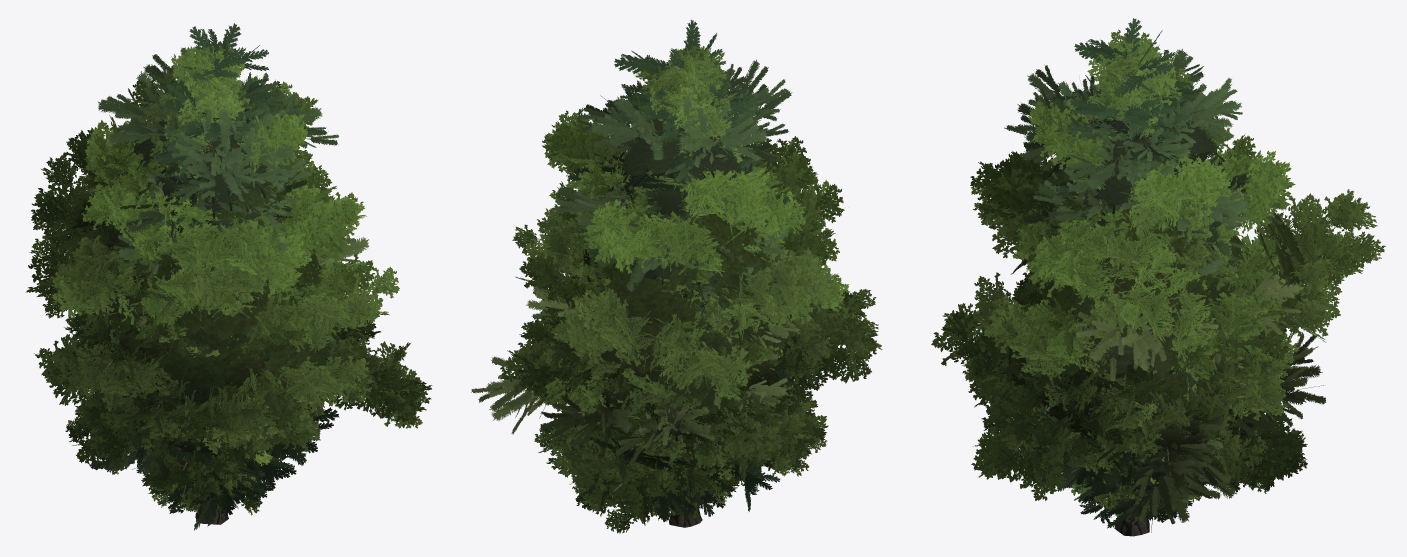
File: trees.glb
3 renders of one model, left to right at view 1: azimuth 30°, elevation 25°; view 2: azimuth 150°, elevation 25°; view 3: azimuth 270°, elevation 25°, orthographic. The views are drawn at different scales.
Visible parts, largest first — view 1: x_tree_oak_2_near, x_tree_oak_2_mid, x_tree_beech_2_near, x_tree_oak_0_near, x_tree_beech_0_near, x_tree_pine_2_near, x_tree_oak_0_mid, x_tree_spruce_2_near, x_tree_pine_2_mid, x_tree_beech_0_mid, x_tree_poplar_2_near, x_tree_oak_1_near (+12 smaller); view 2: x_tree_oak_2_mid, x_tree_oak_2_near, x_tree_beech_2_near, x_tree_oak_0_near, x_tree_oak_0_mid, x_tree_pine_2_near, x_tree_beech_0_near, x_tree_beech_2_mid, x_tree_pine_2_mid, x_tree_oak_1_near, x_tree_poplar_2_near, x_tree_aleppo_pine_2_near (+13 smaller); view 3: x_tree_oak_2_near, x_tree_oak_2_mid, x_tree_beech_2_near, x_tree_oak_0_near, x_tree_beech_0_near, x_tree_aleppo_pine_2_near, x_tree_oak_0_mid, x_tree_pine_2_near, x_tree_beech_0_mid, x_tree_pine_2_mid, x_tree_beech_2_mid, x_tree_aleppo_pine_2_mid (+10 smaller).
Part boxes in pixels (left/top/right/bottom): x_tree_oak_2_near: left=31, top=133, right=432, bottom=524; x_tree_oak_2_mid: left=32, top=130, right=423, bottom=524; x_tree_beech_2_near: left=82, top=78, right=337, bottom=437; x_tree_oak_0_near: left=41, top=187, right=399, bottom=465; x_tree_beech_0_near: left=81, top=115, right=374, bottom=445; x_tree_pine_2_near: left=106, top=47, right=338, bottom=247; x_tree_oak_0_mid: left=25, top=231, right=389, bottom=467; x_tree_spruce_2_near: left=89, top=29, right=333, bottom=509; x_tree_pine_2_mid: left=98, top=50, right=328, bottom=237; x_tree_beech_0_mid: left=87, top=121, right=365, bottom=405; x_tree_poplar_2_near: left=127, top=43, right=246, bottom=357; x_tree_oak_1_near: left=65, top=387, right=322, bottom=489; x_tree_oak_2_mid: left=518, top=166, right=882, bottom=527; x_tree_oak_2_near: left=519, top=146, right=878, bottom=527; x_tree_beech_2_near: left=515, top=62, right=844, bottom=371; x_tree_oak_0_near: left=512, top=204, right=847, bottom=533; x_tree_oak_0_mid: left=500, top=222, right=849, bottom=525; x_tree_pine_2_near: left=574, top=64, right=802, bottom=290; x_tree_beech_0_near: left=538, top=159, right=807, bottom=409; x_tree_beech_2_mid: left=530, top=66, right=820, bottom=356; x_tree_pine_2_mid: left=566, top=59, right=789, bottom=297; x_tree_oak_1_near: left=534, top=342, right=827, bottom=476; x_tree_poplar_2_near: left=635, top=43, right=752, bottom=295; x_tree_aleppo_pine_2_near: left=471, top=234, right=798, bottom=446; x_tree_oak_2_near: left=942, top=185, right=1385, bottom=536; x_tree_oak_2_mid: left=972, top=195, right=1377, bottom=534; x_tree_beech_2_near: left=970, top=100, right=1271, bottom=396; x_tree_oak_0_near: left=941, top=233, right=1307, bottom=493; x_tree_beech_0_near: left=989, top=150, right=1291, bottom=439; x_tree_aleppo_pine_2_near: left=988, top=272, right=1326, bottom=522; x_tree_oak_0_mid: left=931, top=231, right=1298, bottom=485; x_tree_pine_2_near: left=1004, top=49, right=1255, bottom=248; x_tree_beech_0_mid: left=998, top=161, right=1295, bottom=393; x_tree_pine_2_mid: left=1014, top=48, right=1248, bottom=299; x_tree_beech_2_mid: left=982, top=95, right=1285, bottom=357; x_tree_aleppo_pine_2_mid: left=979, top=282, right=1322, bottom=522.
Size of the model in its own units: 24.07 by 30.96 by 25.91.
2 materials, 2 textured.
